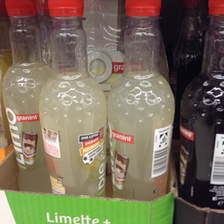soda: (37, 1, 108, 197), (108, 1, 176, 199), (180, 2, 223, 211), (1, 1, 47, 192)
